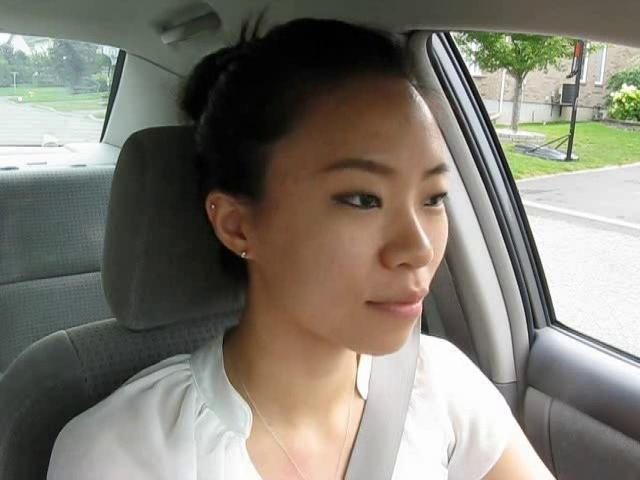eye_open: (328, 187, 392, 217), (422, 186, 450, 212)
face: (274, 115, 454, 357)
